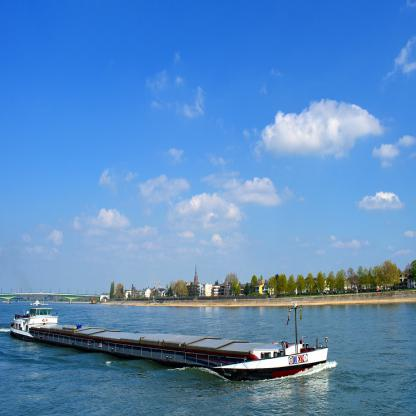Bulk Carrier: (10, 302, 329, 380)
